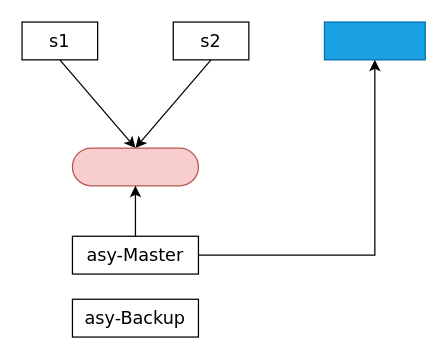
The diagram is 447 pixels wide and 359 high, and some of its shapes have lost their labels. The shapes that lost their labels are listed below. From the top down, each one's box as (x1, y1, x2, y2) in pixels, then its label:
(323, 21, 425, 60): sso
(71, 147, 198, 186): redis
